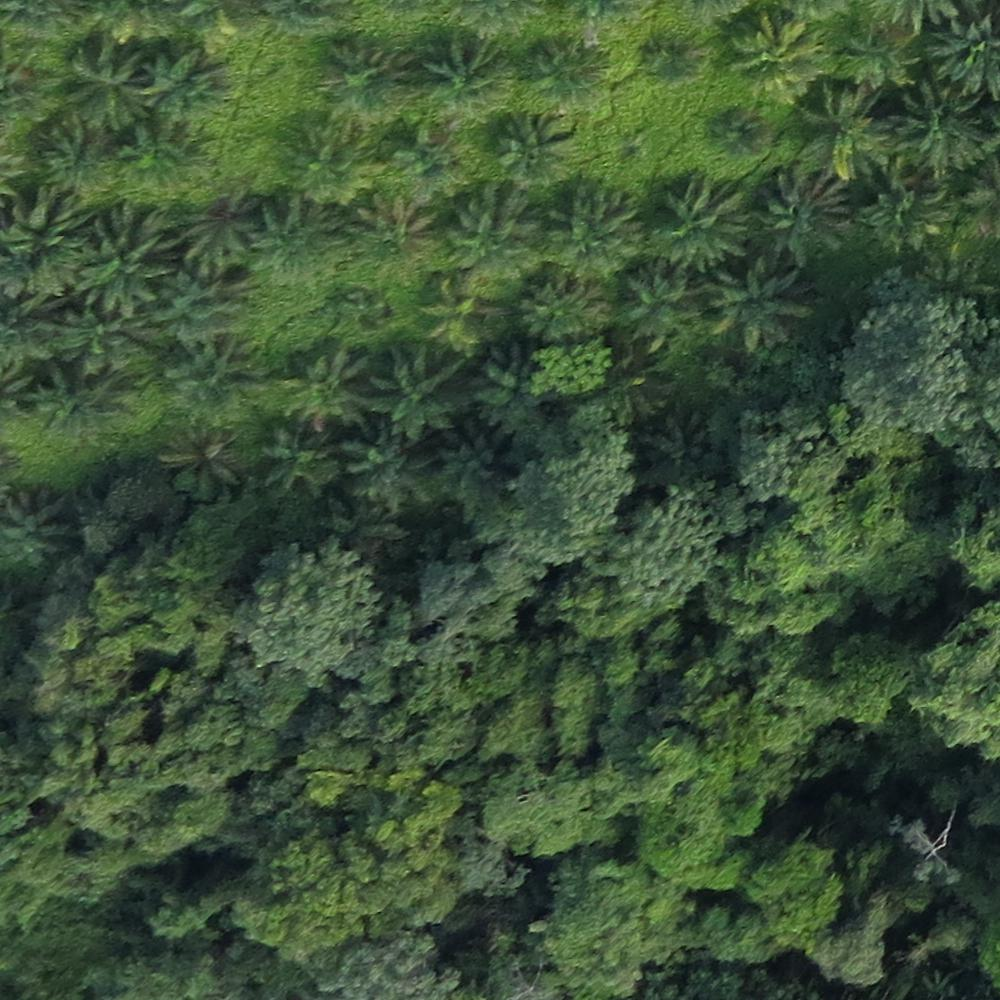Palm: (27, 363, 128, 451), (75, 216, 169, 309), (889, 79, 985, 167), (653, 175, 749, 262), (803, 89, 895, 178), (757, 169, 846, 260), (552, 176, 644, 264), (444, 184, 536, 272), (712, 264, 805, 351), (4, 193, 87, 290), (366, 347, 462, 430), (170, 332, 261, 418), (70, 38, 153, 132), (278, 350, 367, 434), (518, 267, 607, 349), (340, 427, 431, 507), (251, 198, 336, 283), (422, 36, 512, 114), (733, 10, 815, 94), (529, 31, 611, 113), (354, 197, 441, 274), (318, 38, 405, 115), (527, 31, 610, 105), (140, 42, 220, 116), (617, 267, 698, 340), (488, 113, 571, 184), (279, 122, 357, 195), (866, 178, 946, 249), (121, 126, 203, 195)
